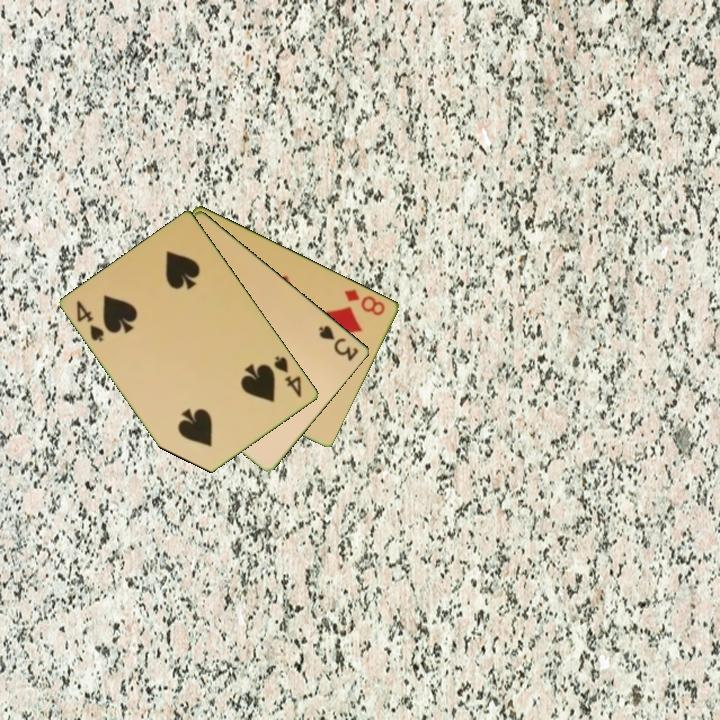3s: (316, 322, 362, 364)
4s: (73, 297, 108, 345), (271, 352, 305, 400)
8d: (341, 285, 388, 318)
